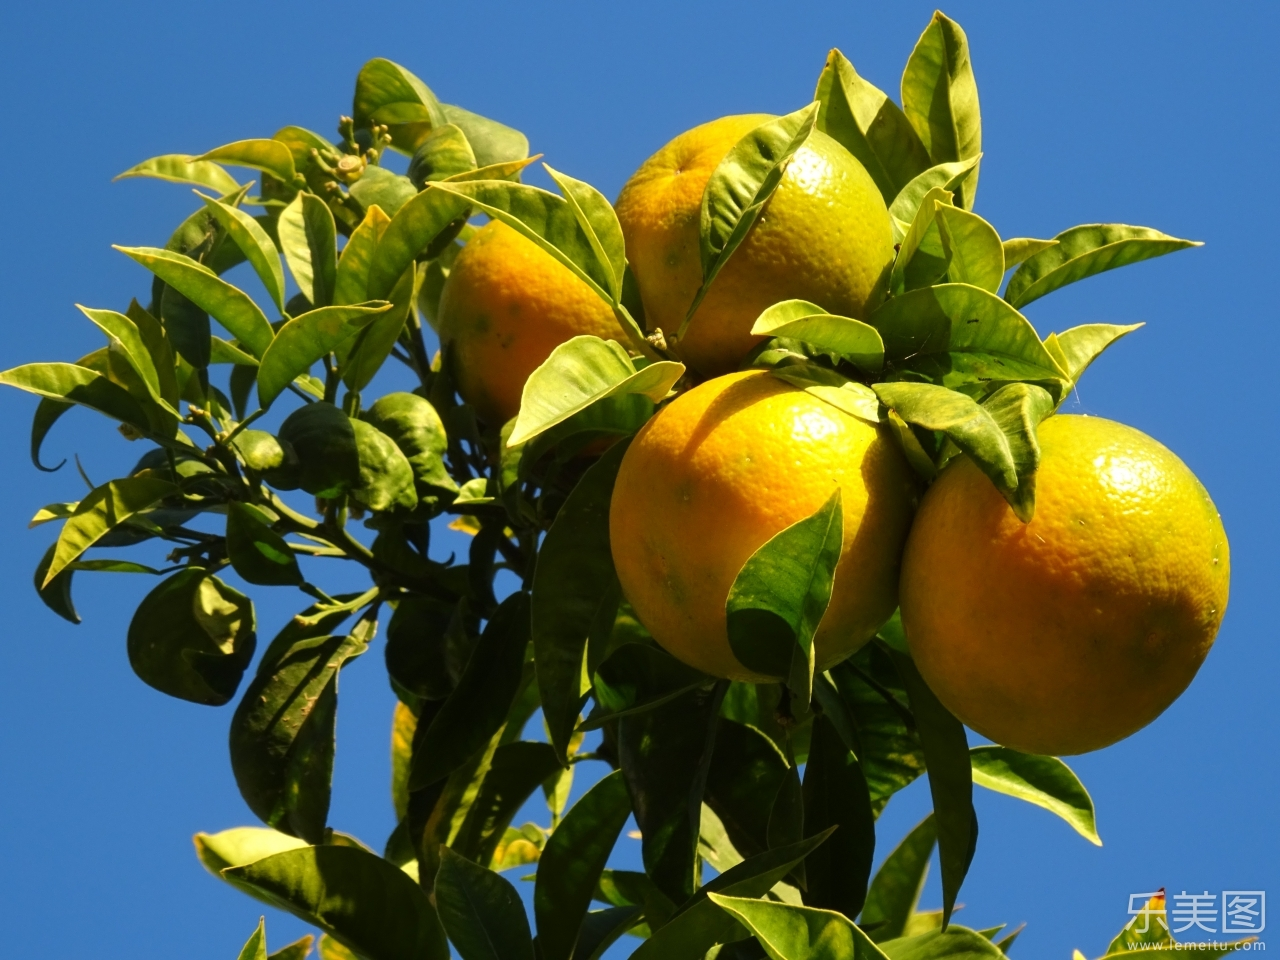orange: (907, 413, 1232, 759), (606, 361, 931, 672), (614, 111, 898, 380), (441, 199, 652, 430)
